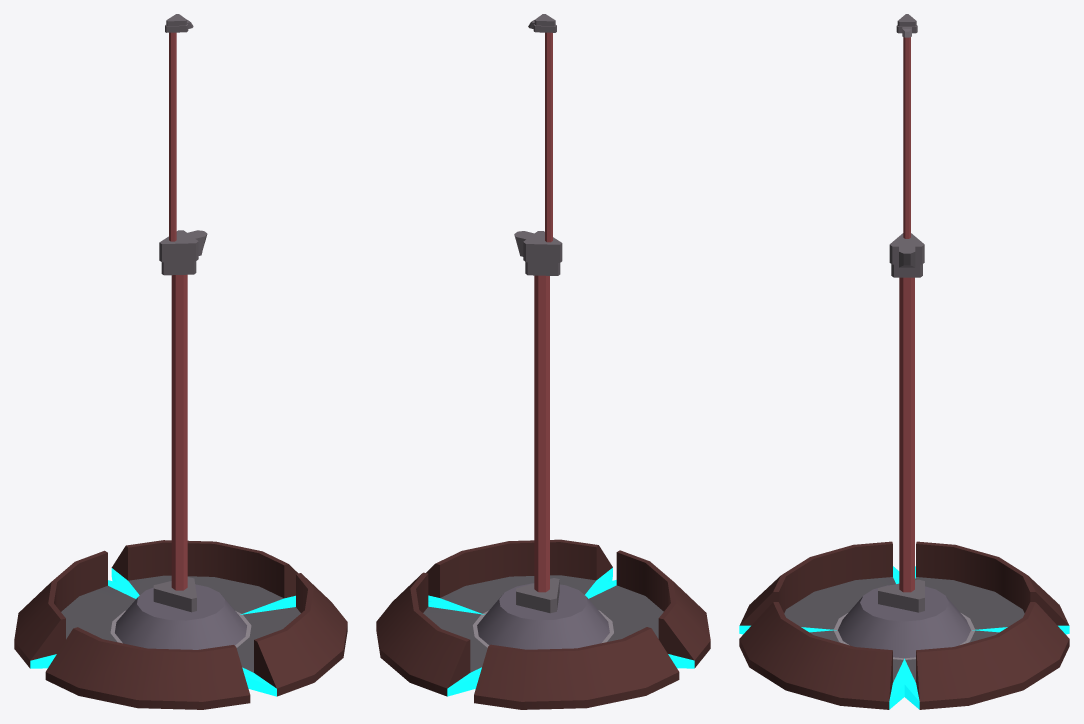
3 renders of one model, left to right at view 1: azimuth 30°, elevation 25°; view 2: azimuth 150°, elevation 25°; view 3: azimuth 270°, elevation 25°, orthographic.
Visible parts, largest first — view 1: FlagStandCyberpunk; view 2: FlagStandCyberpunk; view 3: FlagStandCyberpunk.
Part boxes in pixels (left/top/right/bottom): FlagStandCyberpunk: left=14, top=14, right=347, bottom=709; FlagStandCyberpunk: left=376, top=14, right=710, bottom=709; FlagStandCyberpunk: left=739, top=14, right=1069, bottom=709.
Size of what is drawn, in the model's own units: 0.8248 by 1.71 by 0.8248.
Materials: 2 (2 with a texture image).
